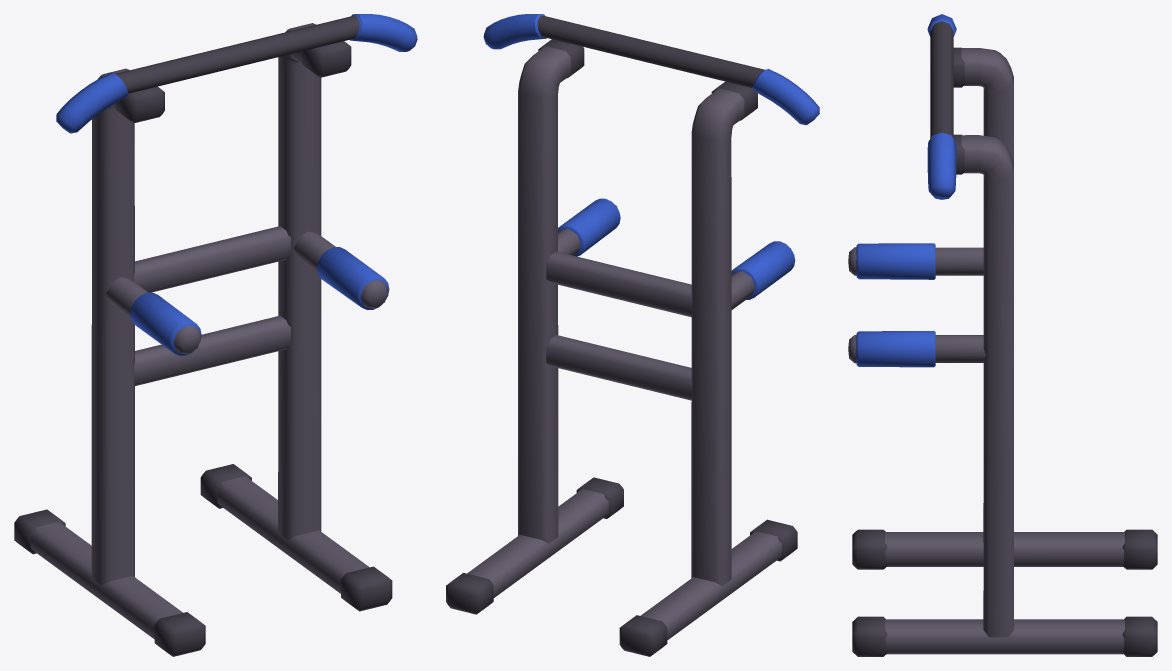
File: Power_Tower_v01.fbx
3 views of the same model, side by side, from view 1: azimuth 30°, elevation 25°; view 2: azimuth 150°, elevation 25°; view 3: azimuth 270°, elevation 25° (orthographic). The views are drawn at different scales.
Parts seen in each view (by area): view 1: Power_Tower_v01; view 2: Power_Tower_v01; view 3: Power_Tower_v01.
Part boxes in pixels (x1=…): Power_Tower_v01: x1=14, y1=14, x2=417, y2=656; Power_Tower_v01: x1=446, y1=14, x2=819, y2=656; Power_Tower_v01: x1=848, y1=14, x2=1157, y2=656.
Bounding box in the file's own units: 1.28 × 1.9 × 1.
1 material, 1 textured.
